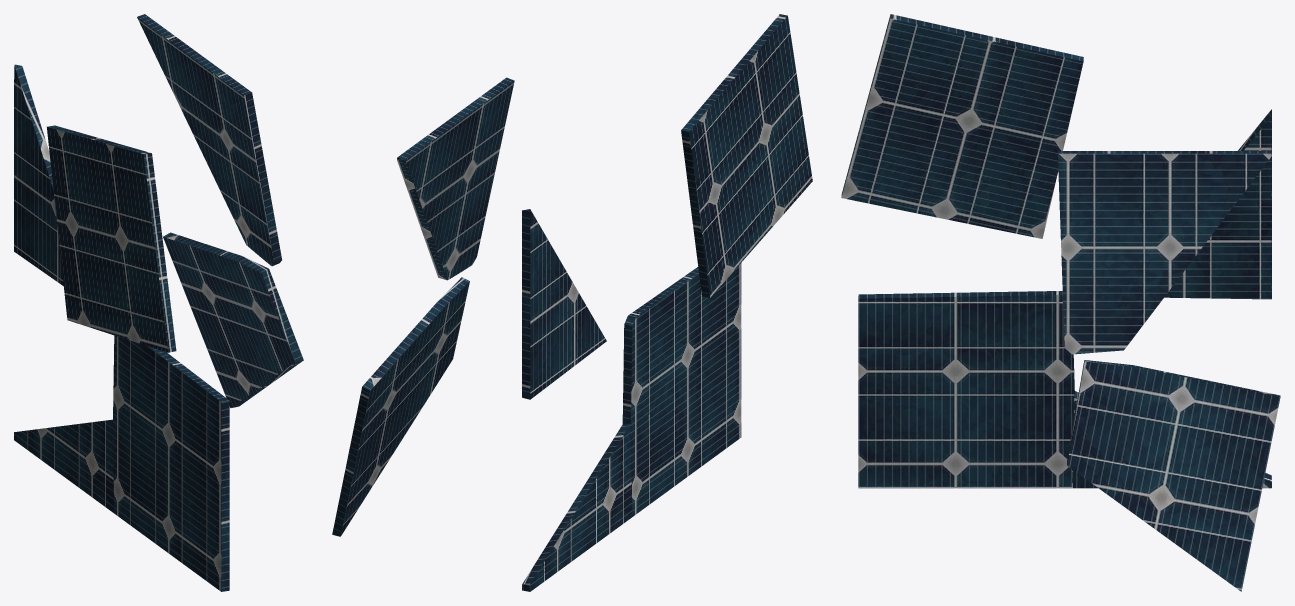
File: Solar_Panel_Rotto.fbx
The picture shows the model from 3 angles, left to right: view 1: azimuth 30°, elevation 25°; view 2: azimuth 150°, elevation 25°; view 3: azimuth 270°, elevation 25°; orthographic projection. The views are drawn at different scales.
Parts seen in each view (by area): view 1: Plane_cell.001; view 2: Plane_cell.001; view 3: Plane_cell.001.
Part boxes in pixels (x1,y1,x2,y2): Plane_cell.001: (14,14,303,591); Plane_cell.001: (332,14,812,591); Plane_cell.001: (841,14,1280,591).
Bounding box in the file's own units: 232 × 365 × 326.
1 material, 1 textured.
